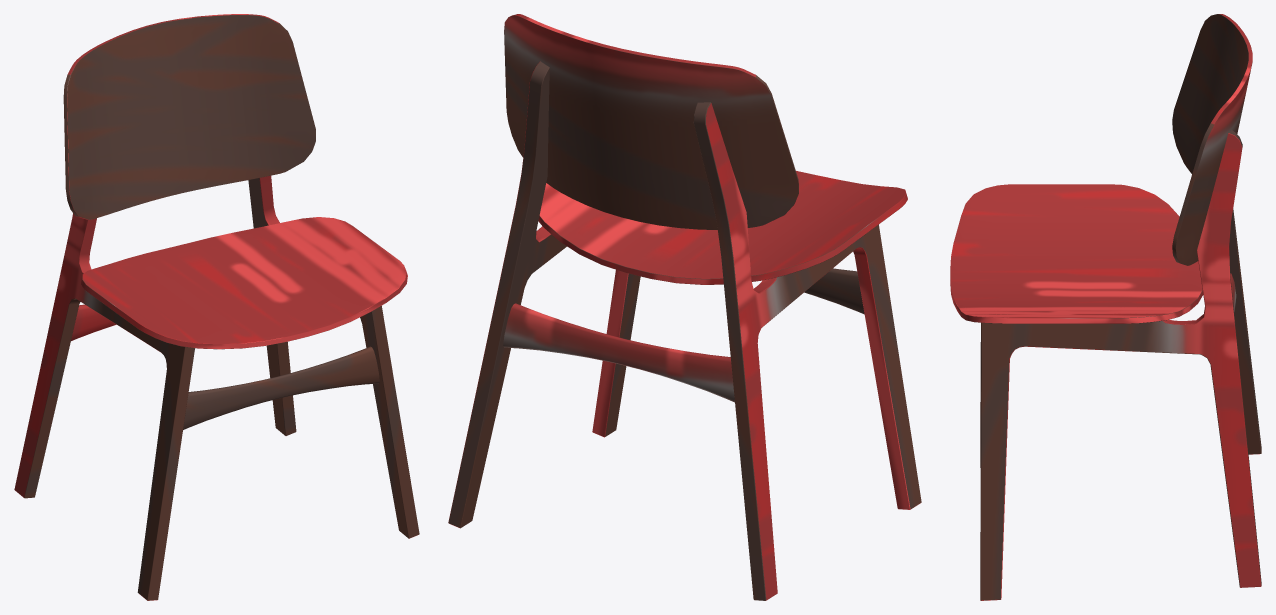
The model's file is chair_low.fbx.
3 views of the same model, side by side, from view 1: azimuth 30°, elevation 25°; view 2: azimuth 150°, elevation 25°; view 3: azimuth 270°, elevation 25° (orthographic). The views are drawn at different scales.
Visible parts, largest first — view 1: chair_low; view 2: chair_low; view 3: chair_low.
Boxes of the visible parts, x1,y1,x2,y2 form: chair_low: (14, 14, 419, 600); chair_low: (448, 14, 921, 600); chair_low: (950, 14, 1261, 600).
Size of the model in its own units: 52.59 by 83.41 by 49.37.
